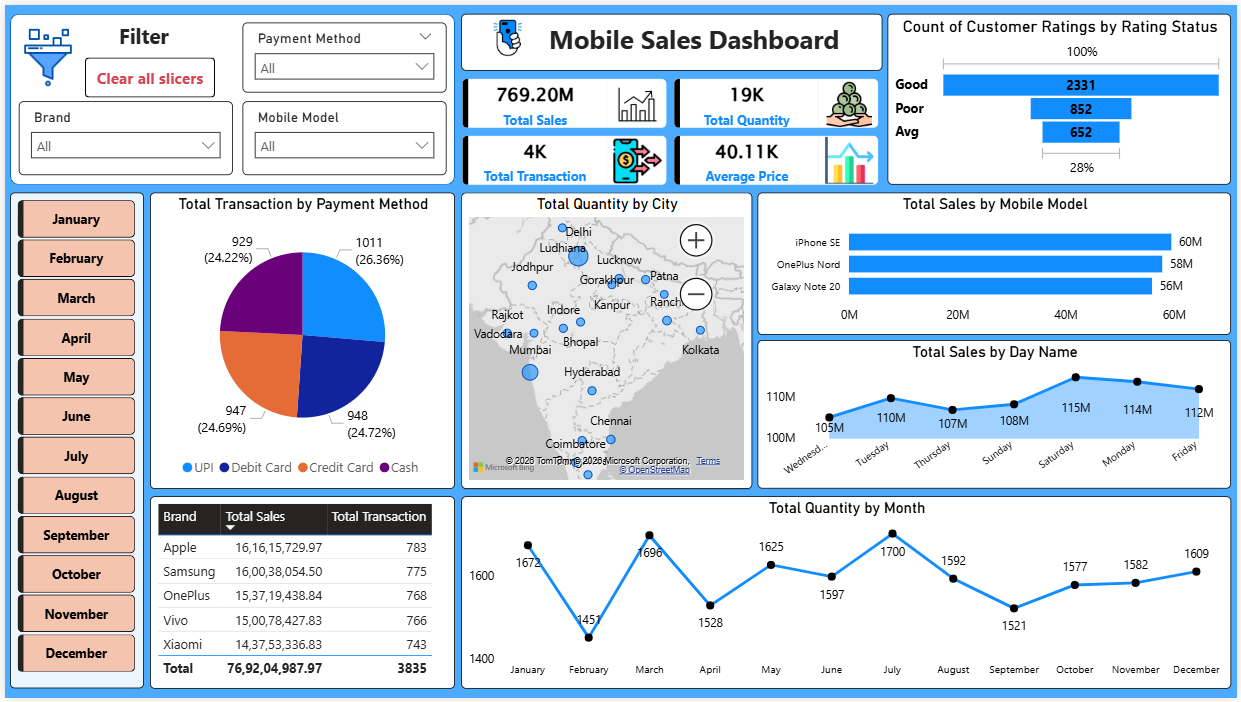

Layout of this report page (visuals, bound fields, positions):
{"tool":"powerbi","page":{"name":"Page 1","canvas":[1280,720],"ordinal":0},"visuals":[{"type":"shape","box":[5.2,9.1,462.3,177.9],"z":0},{"type":"textbox","box":[474,9.1,437.7,59],"z":1000},{"type":"image","box":[493.5,9.1,57.1,49.4],"z":2000},{"type":"slicer","fields":{"Values":["Sales_data.Mobile Model"]},"box":[246.8,100,211.7,76.6],"z":3000},{"type":"slicer","fields":{"Values":["Sales_data.Payment Method"]},"box":[246.8,18.2,211.7,72.7],"z":4000},{"type":"slicer","fields":{"Values":["Sales_data.Brand"]},"box":[14.3,100,222.1,76.6],"z":5000},{"type":"advancedSlicerVisual","fields":{"Values":["Custom_Calendar.Date.Variation.Date Hierarchy.Month"]},"box":[5.2,194.8,139,515.6],"z":6000},{"type":"cardVisual","fields":{"Data":["Sales_data.Total_Sales","Sales_data.Total_Quantity","Sales_data.Total_Transaction","Sales_data.Average_Price"]},"box":[458.4,59.7,466.2,144.2],"z":7000},{"type":"pieChart","fields":{"Category":["Sales_data.Payment Method"],"Y":["Sales_data.Total_Transaction"]},"box":[150.6,194.8,316.9,307.8],"z":8000},{"type":"tableEx","fields":{"Values":["Sales_data.Brand","Sales_data.Total_Sales","Sales_data.Total_Transaction"]},"box":[150.6,510.4,316.9,200],"z":9000},{"type":"map","fields":{"Category":["Sales_data.City"],"Size":["Sales_data.Total_Quantity"]},"box":[474,195,302,308],"z":10000},{"type":"lineChart","fields":{"Category":["Custom_Calendar.Date.Variation.Date Hierarchy.Month"],"Y":["Sales_data.Total_Quantity"]},"box":[474,510.4,800,200],"z":11000},{"type":"stackedAreaChart","fields":{"Category":["Custom_Calendar.Day Name"],"Y":["Sales_data.Total_Sales"]},"box":[781.8,348.1,492.2,154.5],"z":12000},{"type":"barChart","fields":{"Category":["Sales_data.Mobile Model"],"Y":["Sales_data.Total_Sales"]},"box":[781.8,194.8,492.2,148.1],"z":13000},{"type":"funnel","fields":{"Category":["Sales_data.Rating_Status"],"Y":["CountNonNull(Sales_data.Customer Ratings)"]},"box":[916.9,9.1,357.1,177.9],"z":14000},{"type":"image","box":[14.3,18.2,61,72.7],"z":15000},{"type":"textbox","box":[98.7,13,90.9,41.6],"z":16000},{"type":"actionButton","box":[83.1,54.5,135.1,41.6],"z":17000}]}

Visuals, with their boxes in screenshot pixels (x1, y1, x2, y2), scaled from the page's 1280x720 canvas onto the 1241x702 screenshot:
shape: <region>5, 9, 453, 182</region>
textbox: <region>460, 9, 884, 66</region>
image: <region>478, 9, 534, 57</region>
slicer - Sales_data.Mobile Model: <region>239, 98, 445, 172</region>
slicer - Sales_data.Payment Method: <region>239, 18, 445, 89</region>
slicer - Sales_data.Brand: <region>14, 98, 229, 172</region>
advancedSlicerVisual - Custom_Calendar.Date.Variation.Date Hierarchy.Month: <region>5, 190, 140, 693</region>
cardVisual - Sales_data.Total_Sales x Sales_data.Total_Quantity: <region>444, 58, 896, 199</region>
pieChart - Sales_data.Payment Method x Sales_data.Total_Transaction: <region>146, 190, 453, 490</region>
tableEx - Sales_data.Brand x Sales_data.Total_Sales: <region>146, 498, 453, 693</region>
map - Sales_data.City x Sales_data.Total_Quantity: <region>460, 190, 752, 490</region>
lineChart - Custom_Calendar.Date.Variation.Date Hierarchy.Month x Sales_data.Total_Quantity: <region>460, 498, 1235, 693</region>
stackedAreaChart - Custom_Calendar.Day Name x Sales_data.Total_Sales: <region>758, 339, 1235, 490</region>
barChart - Sales_data.Mobile Model x Sales_data.Total_Sales: <region>758, 190, 1235, 334</region>
funnel - Sales_data.Rating_Status x CountNonNull(Sales_data.Customer Ratings): <region>889, 9, 1235, 182</region>
image: <region>14, 18, 73, 89</region>
textbox: <region>96, 13, 184, 53</region>
actionButton: <region>81, 53, 212, 94</region>
